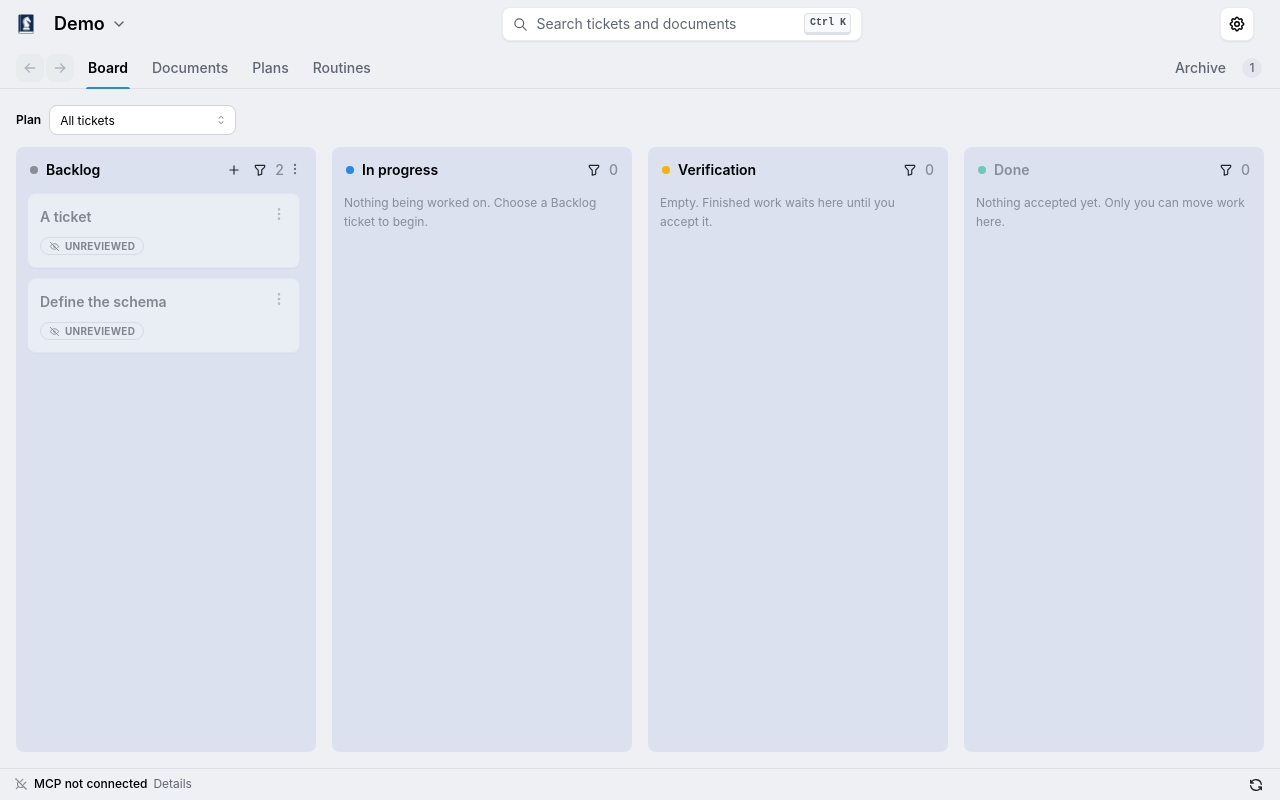
Test: after saving › shows the new readiness on the card and in the dialog without a refresh
This screenshot has width=1280, height=800.
Step 1. Click the text "A ticket" → (66, 216), box [40,208,91,225]
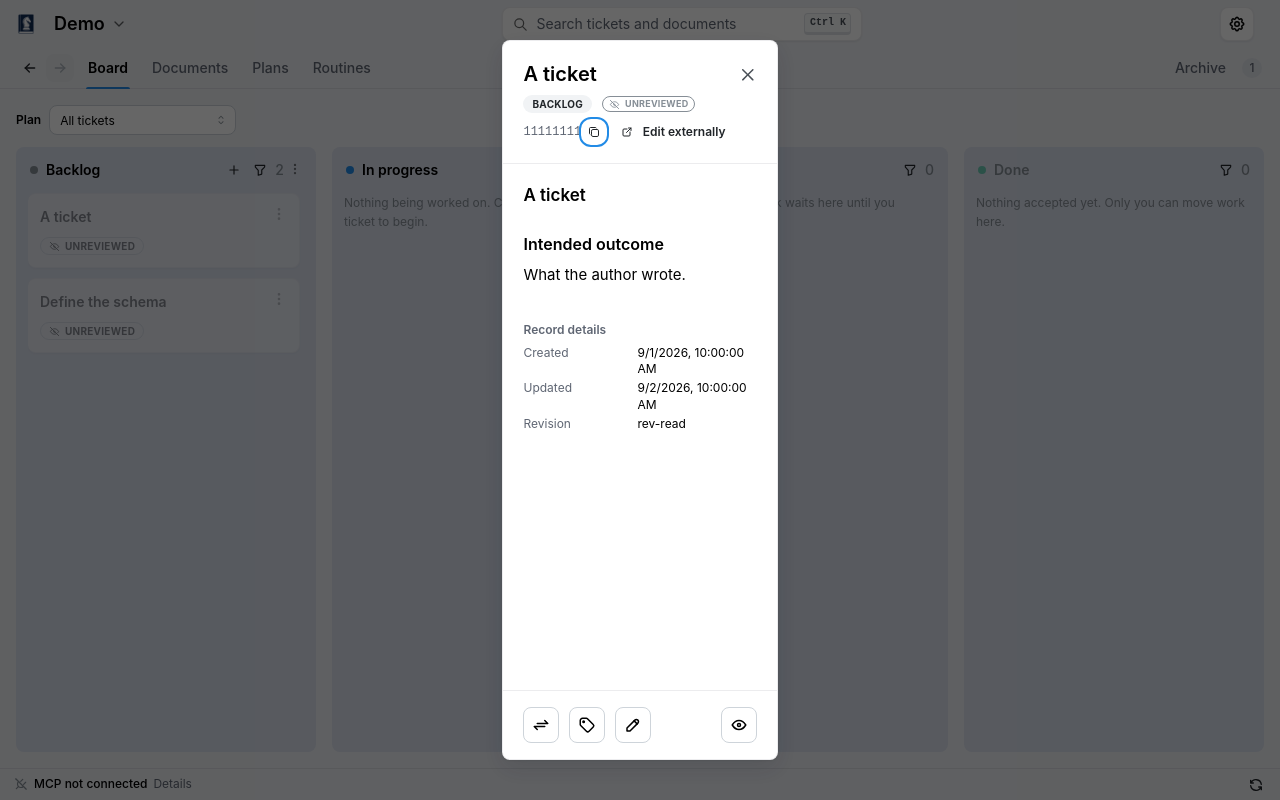
Step 2. Click the button named "Edit ticket" → (634, 725), box [616,707,652,743]
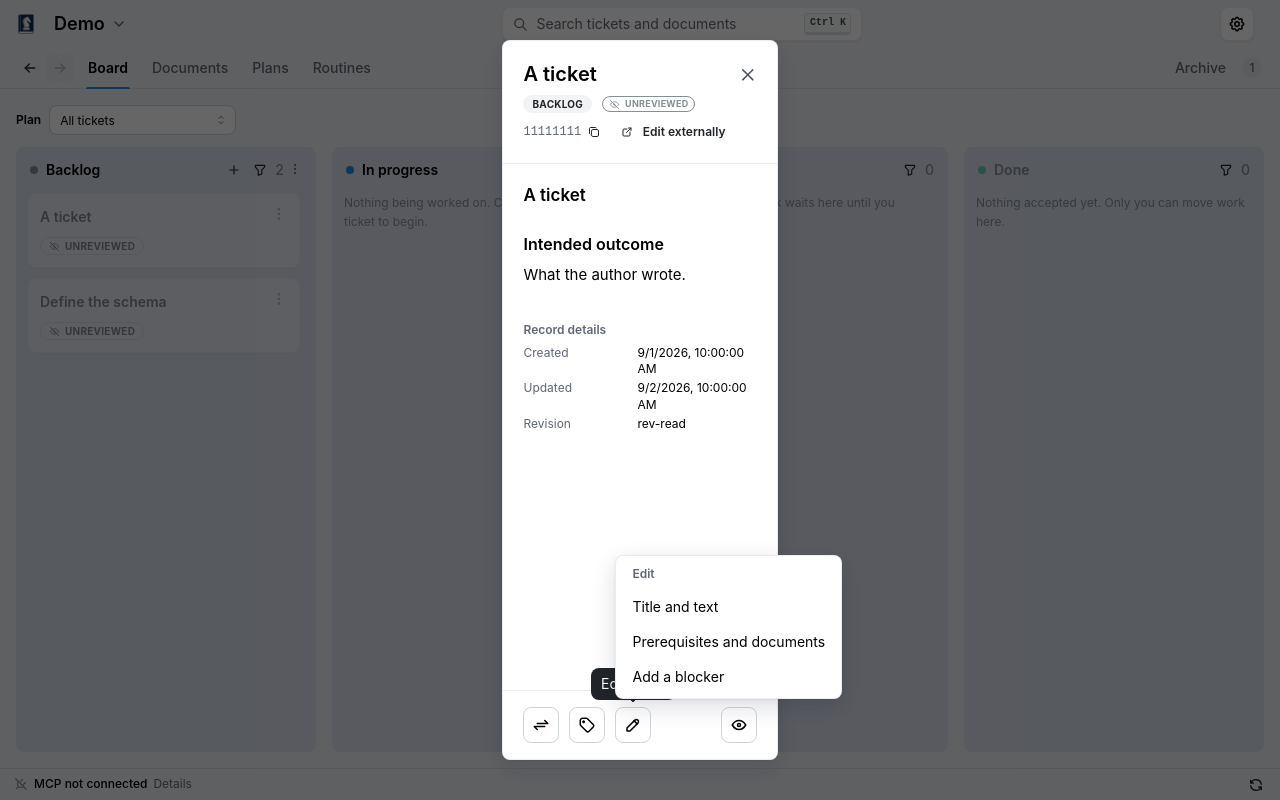
Step 3. Click the menu item "Prerequisites and documents" → (729, 642), box [620,624,837,659]
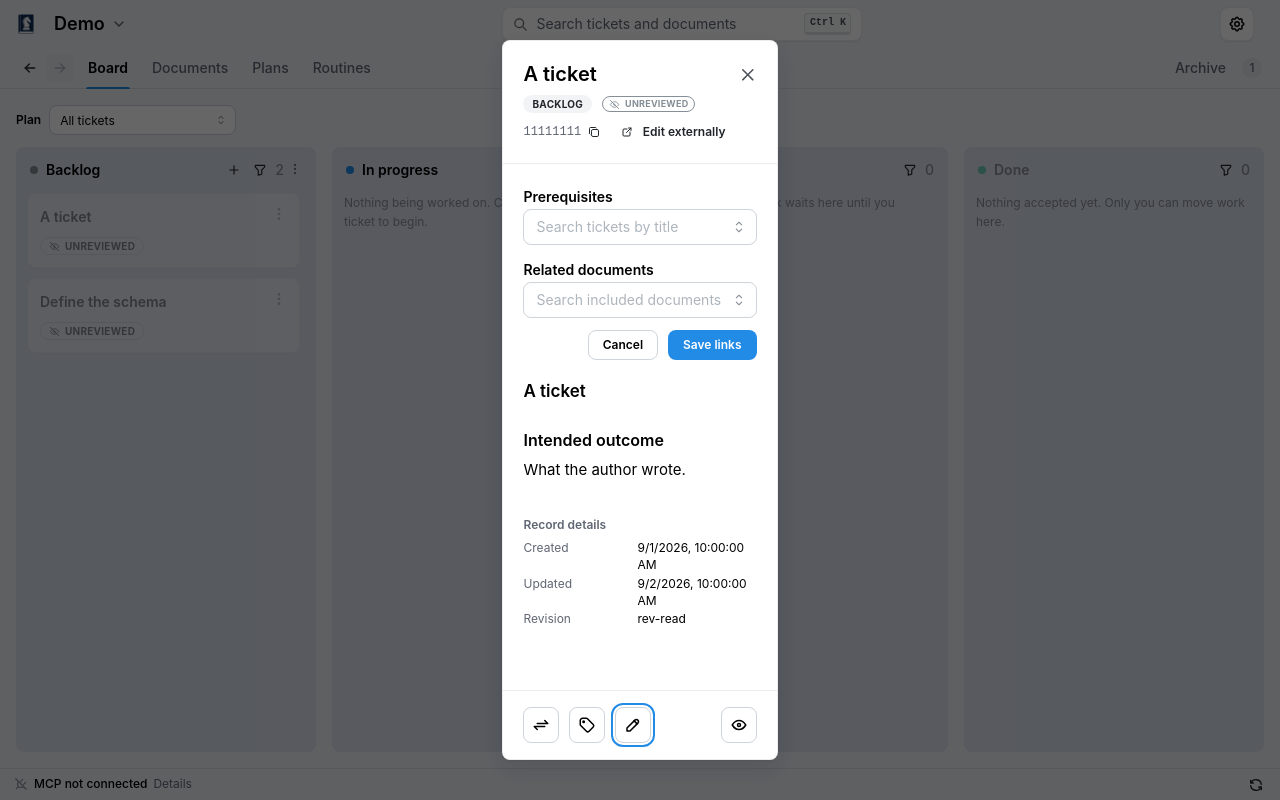
Check: the text "Waiting on 1" is not shown
Step 4. Click the dropdown labelled "Prerequisites" → (629, 226), box [536,215,722,238]
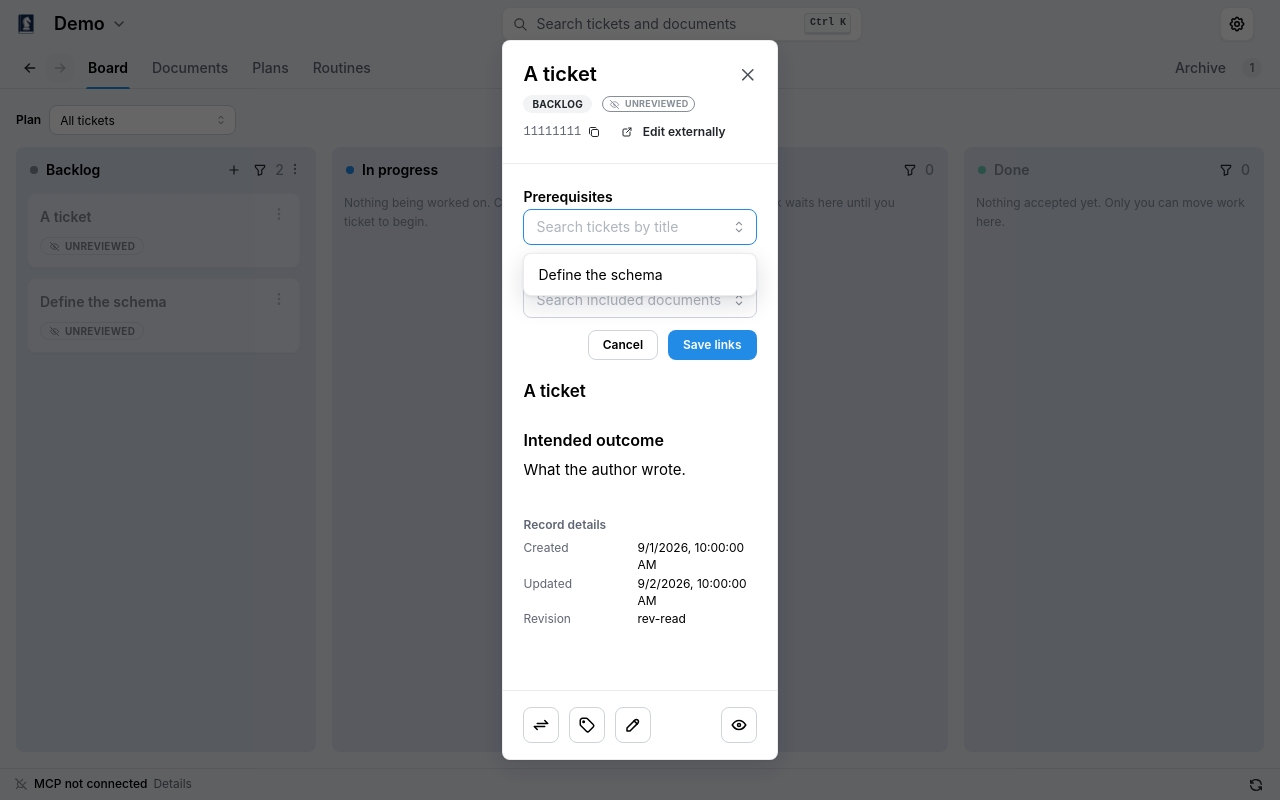
Step 5. Click the option "Define the schema" → (601, 274), box [538,266,663,283]
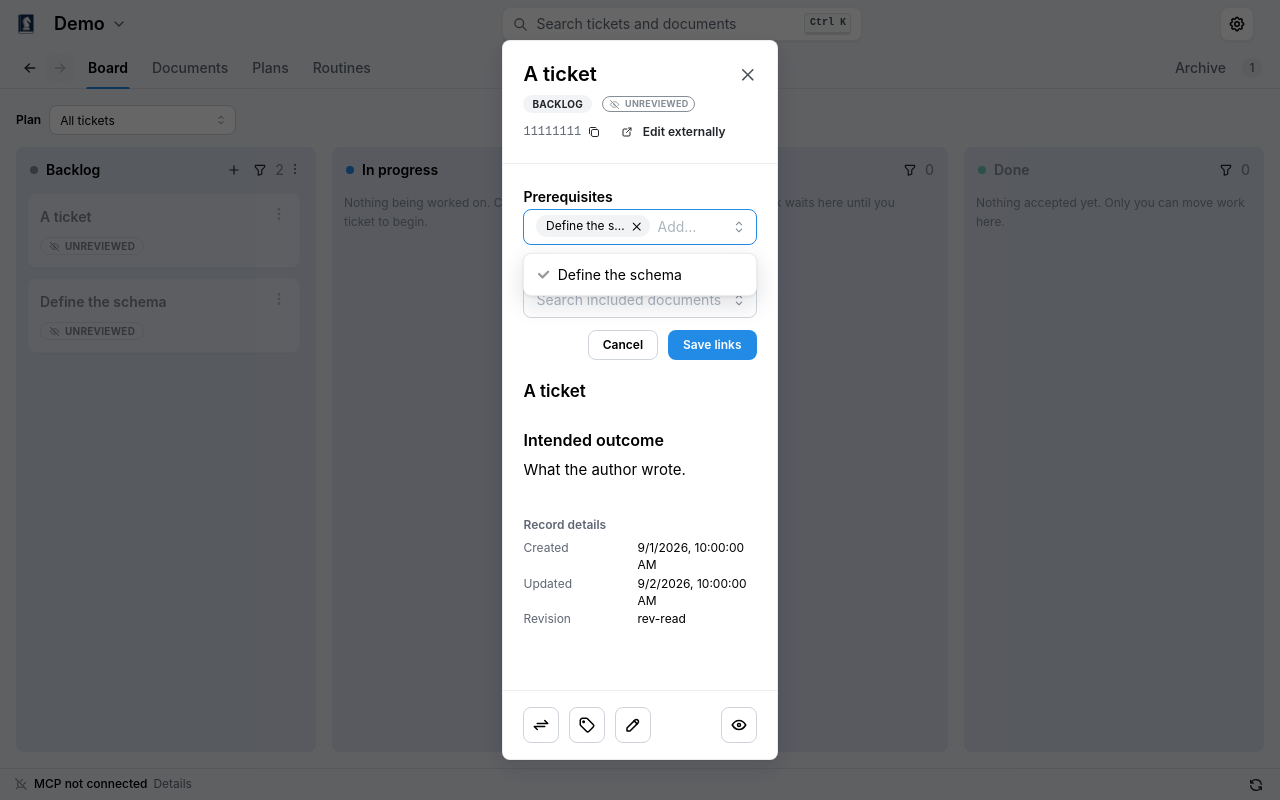
Step 6. Click the button "Save links" → (712, 345), box [668,330,756,360]
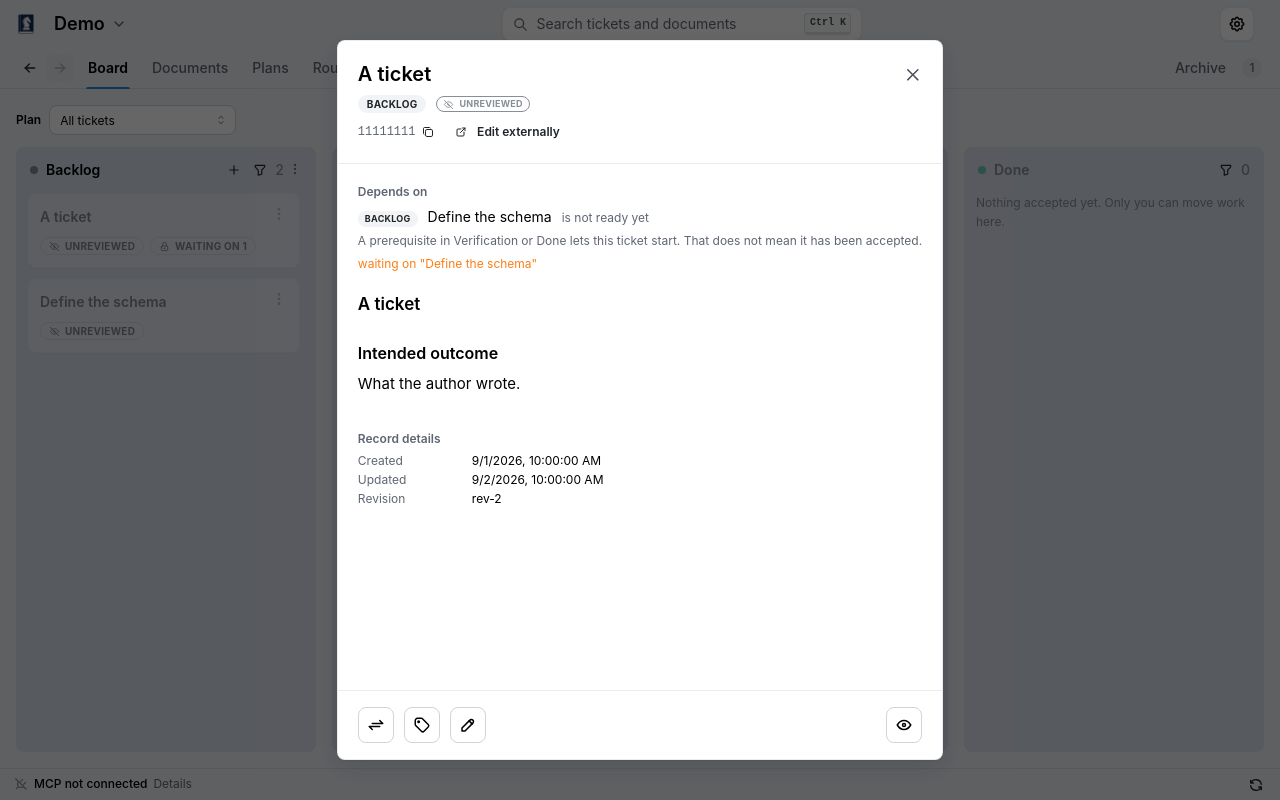
Check: the text "Waiting on 1" is shown, box [175,238,247,254]
Check: the text "Depends on" is shown, box [358,184,427,199]
Check: the text "is not ready yet" is shown, box [562,210,649,227]
